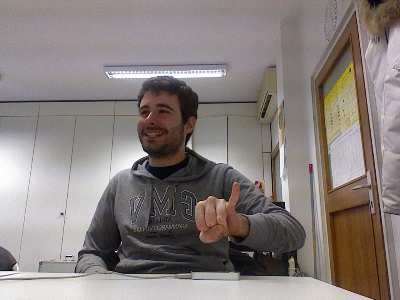小指: (192, 181, 241, 244)
